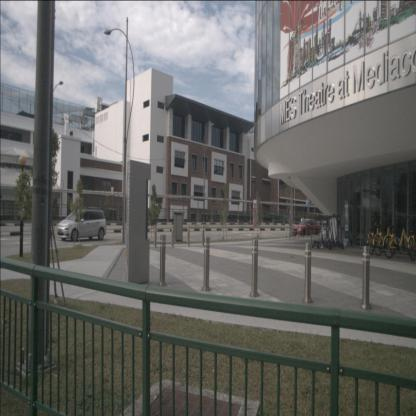vehicle-car: (57, 208, 107, 242), (292, 218, 321, 235)
